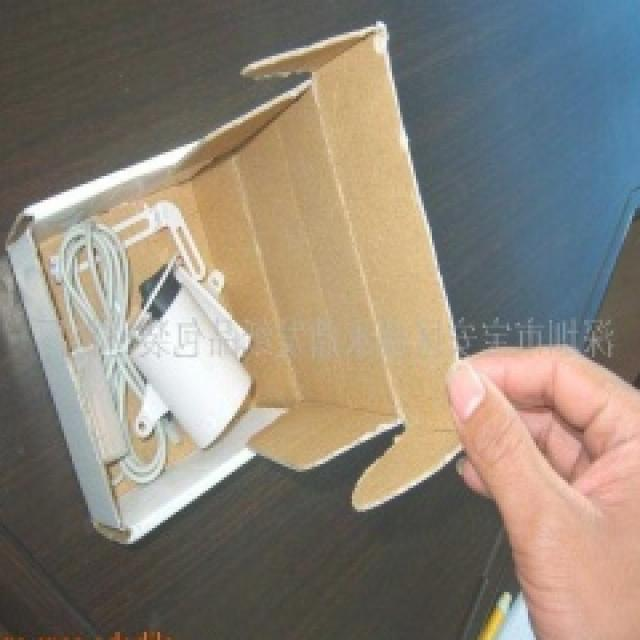box: (2, 12, 494, 590)
